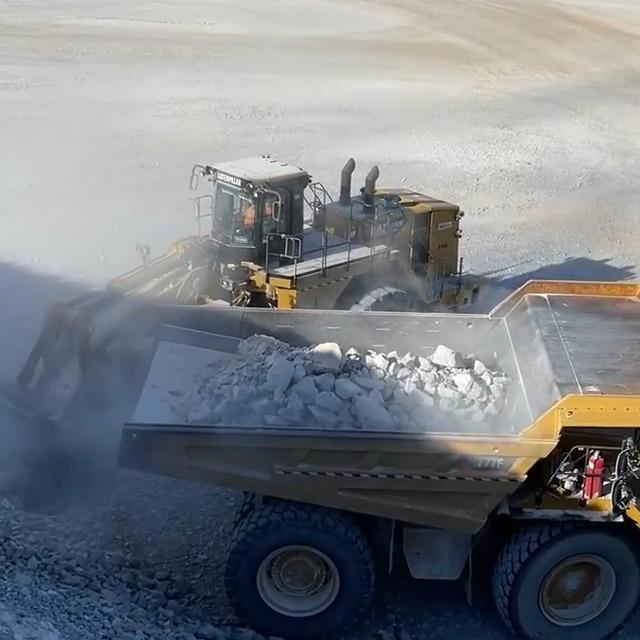dump truck: (111, 277, 640, 640)
wheel loader: (0, 152, 498, 509)
